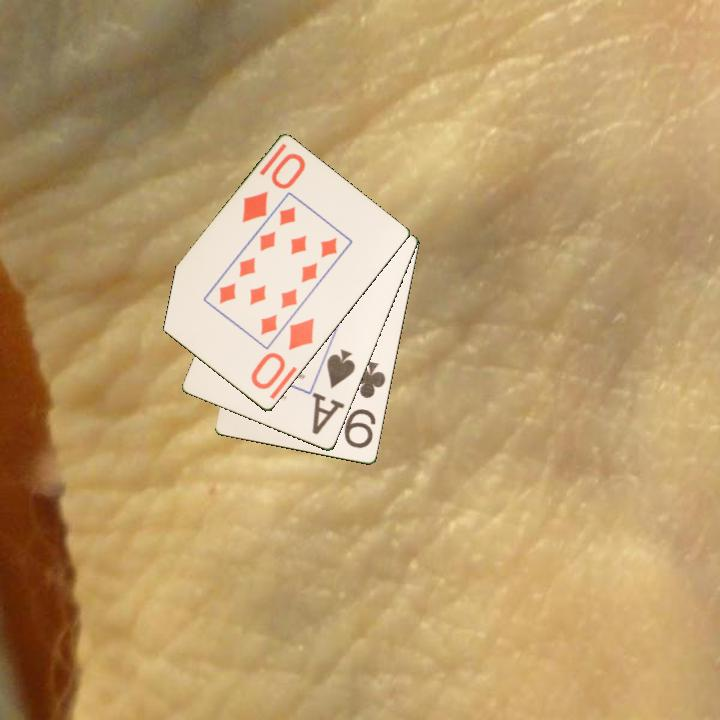10d: (247, 315, 317, 393), (238, 150, 309, 226)
9c: (341, 357, 389, 452)
As: (314, 346, 358, 429)
